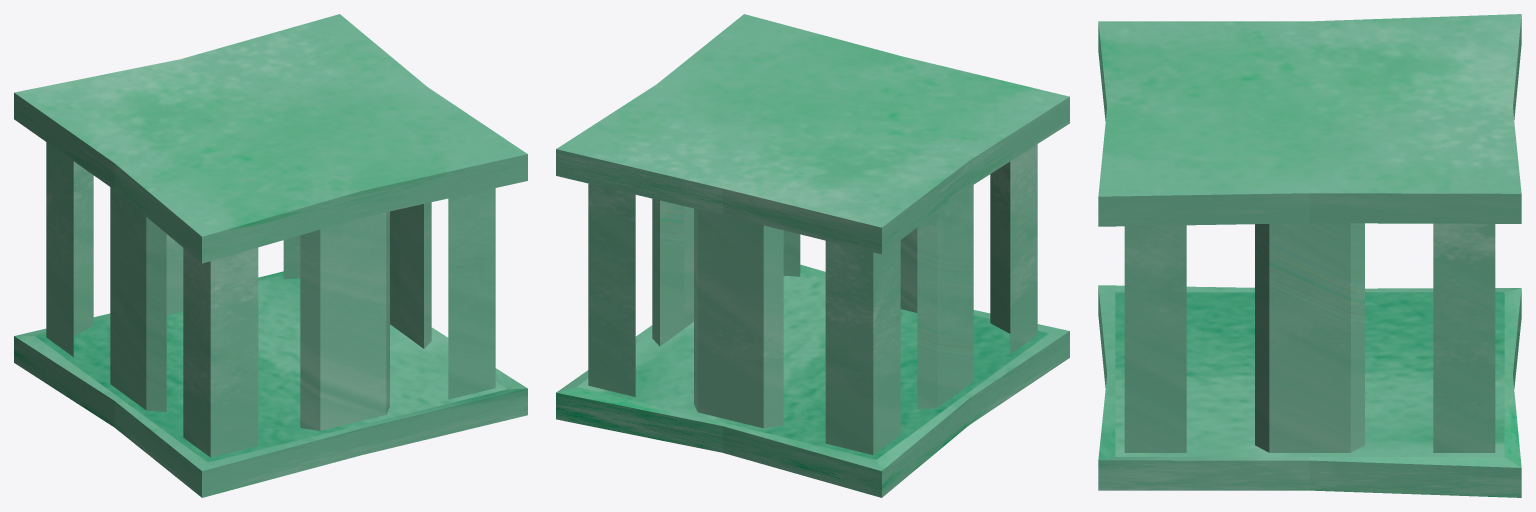
Rendered from Jaula_open.glb.
3 renders of one model, left to right at view 1: azimuth 30°, elevation 25°; view 2: azimuth 150°, elevation 25°; view 3: azimuth 270°, elevation 25°, orthographic. The views are drawn at different scales.
Visible parts, largest first — view 1: Jaula_open; view 2: Jaula_open; view 3: Jaula_open.
Part boxes in pixels (x1,y1,x2,y2): Jaula_open: (14, 14, 527, 497); Jaula_open: (556, 14, 1069, 497); Jaula_open: (1098, 14, 1521, 497).
Bounding box in the file's own units: 2.38 × 1.89 × 2.38.
Materials: 1 (1 with a texture image).
